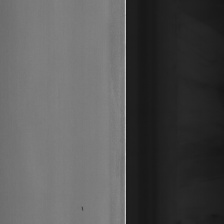inclusion: (79, 200, 86, 214)
